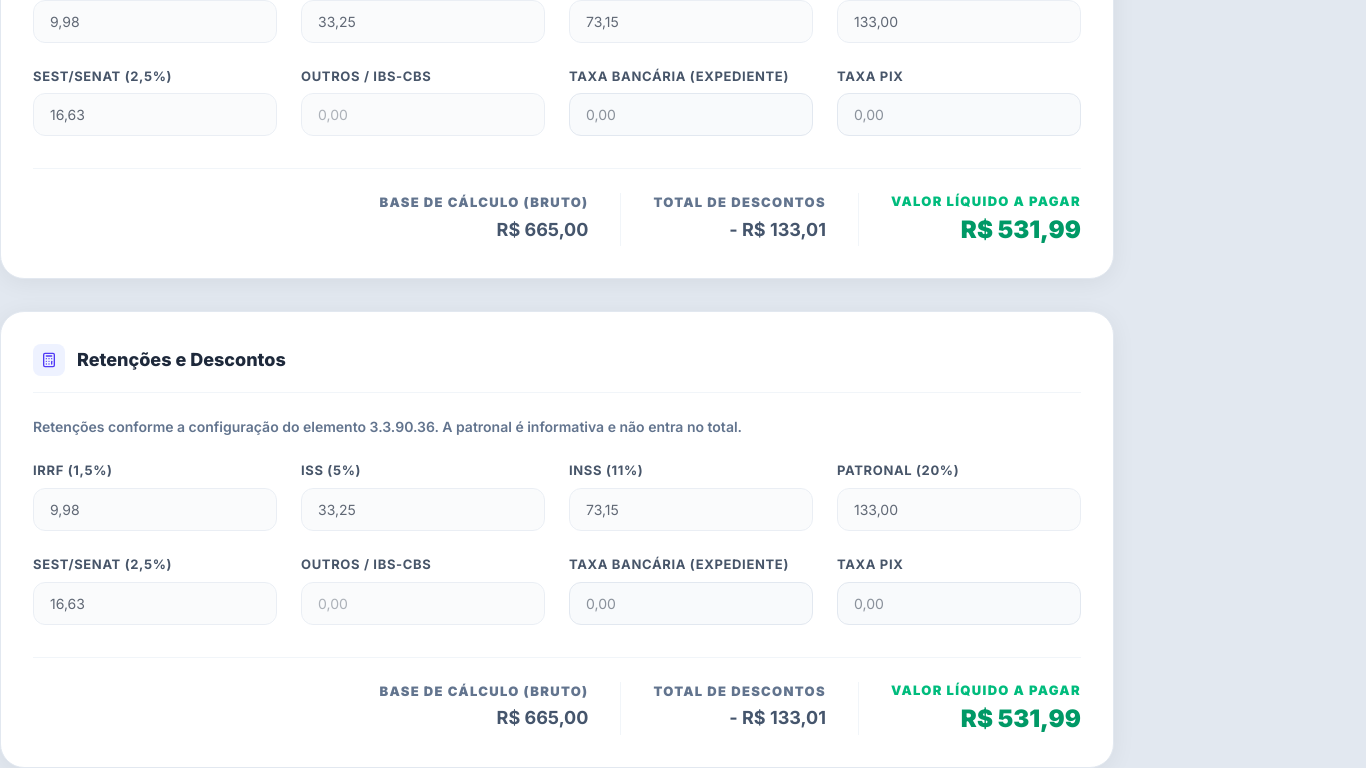
OpTaxesSection com basePath (T35-A) › ids únicos por linha e campo digitado marca camposInformados só daquela linha
(page scrolled)
Type "850" into the 2nd field labelled "Taxa bancária (expediente)" at (691, 603), box top-left (569, 582), bottom-right (813, 625)
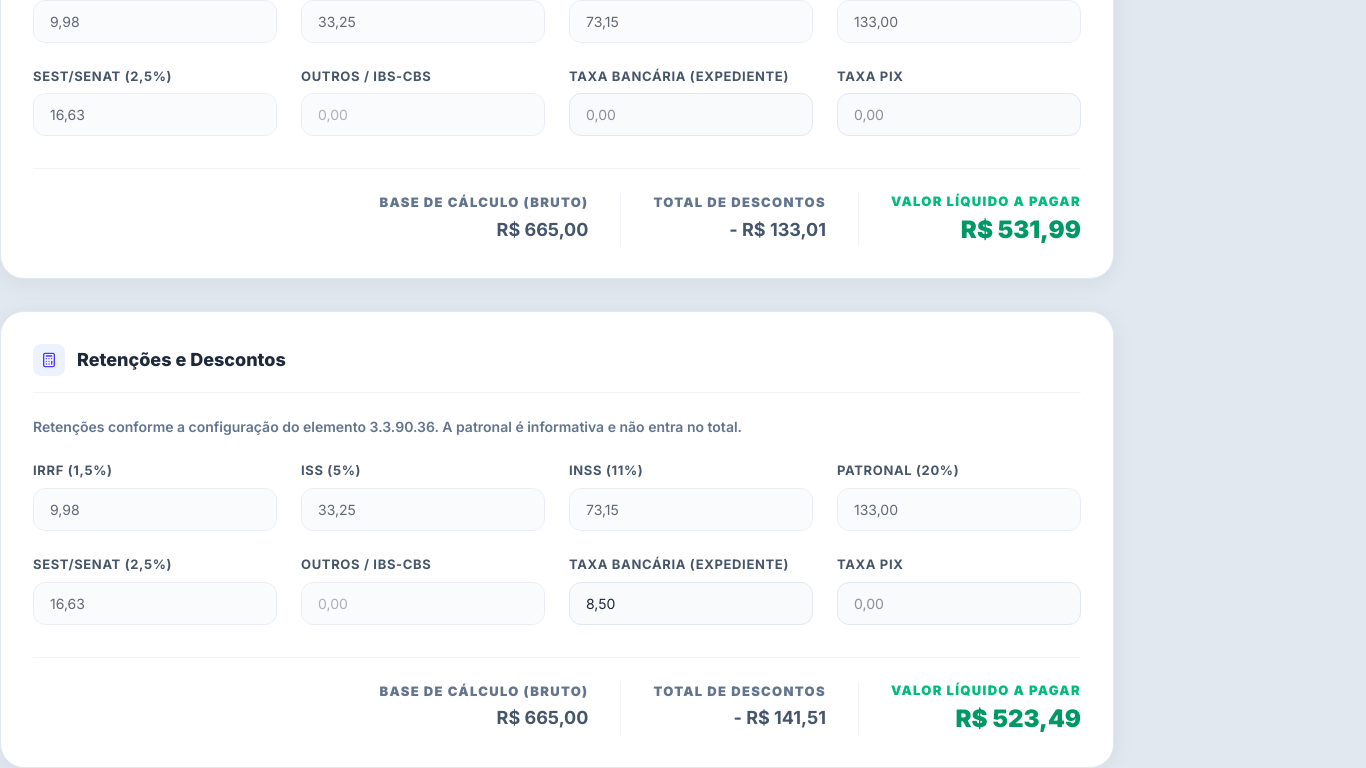
Check: the text with test id "resumo-liquido" reads "R$ 531,99", box top-left (961, 216), bottom-right (1081, 244)
Check: the 2nd field labelled "Taxa bancária (expediente)" holds "8,50", box top-left (569, 582), bottom-right (813, 625)
Check: the text with test id "resumo-liquido" reads "R$ 523,49", box top-left (956, 704), bottom-right (1081, 733)
